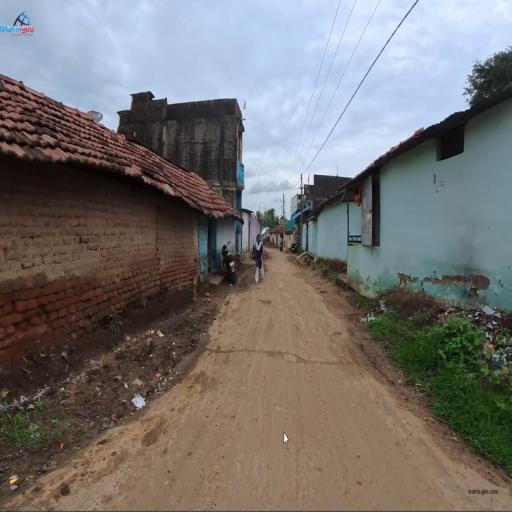longitudinal_crack: (209, 340, 359, 378)
